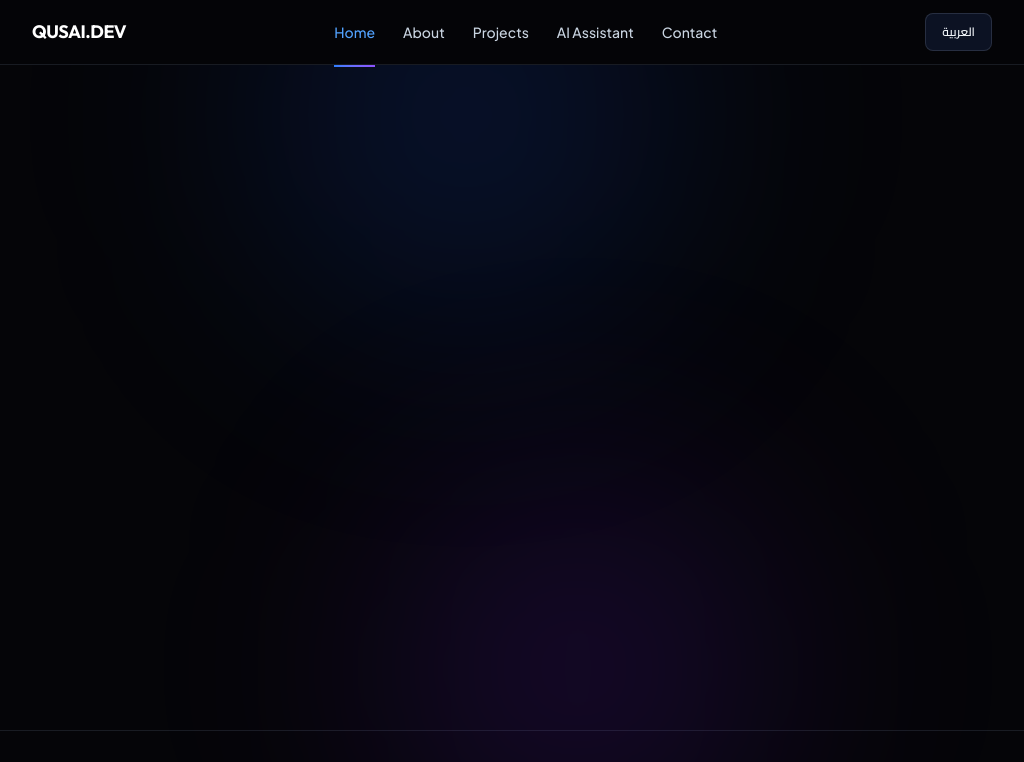
Portfolio Navigation, Bilingual Switching, and RTL/LTR Layout › switches between English (LTR) and Arabic (RTL) cleanly
Click the button "العربية" at (959, 32), box [925,13,992,51]
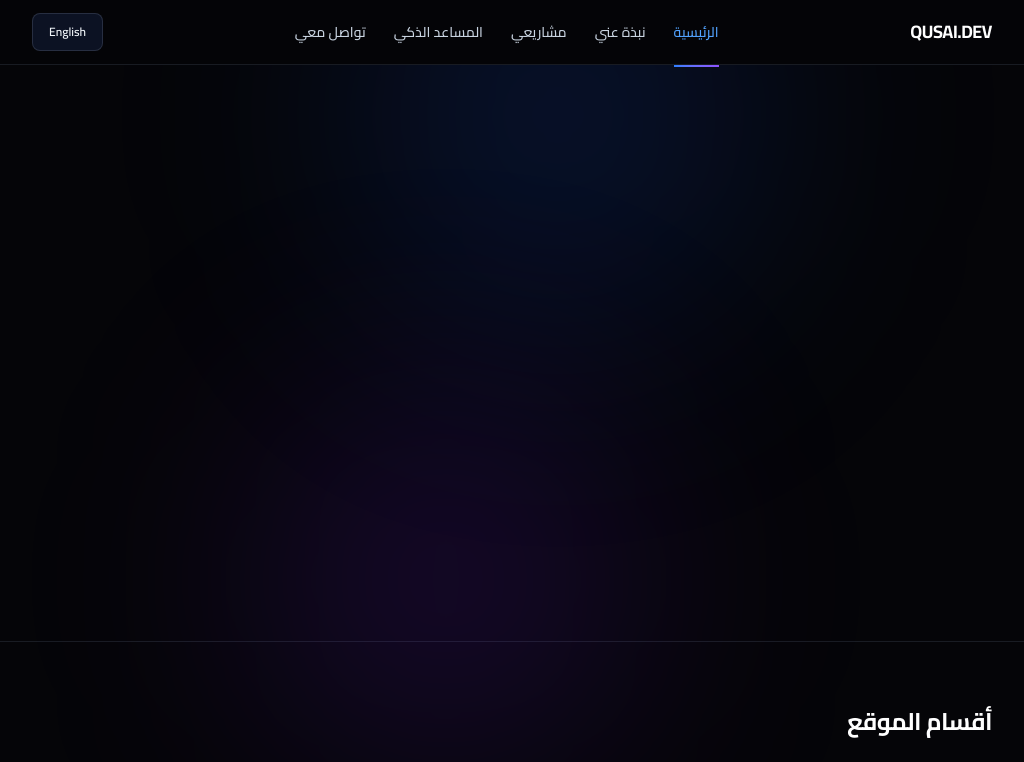
Click the button "English" at (68, 32), box [32,13,103,51]
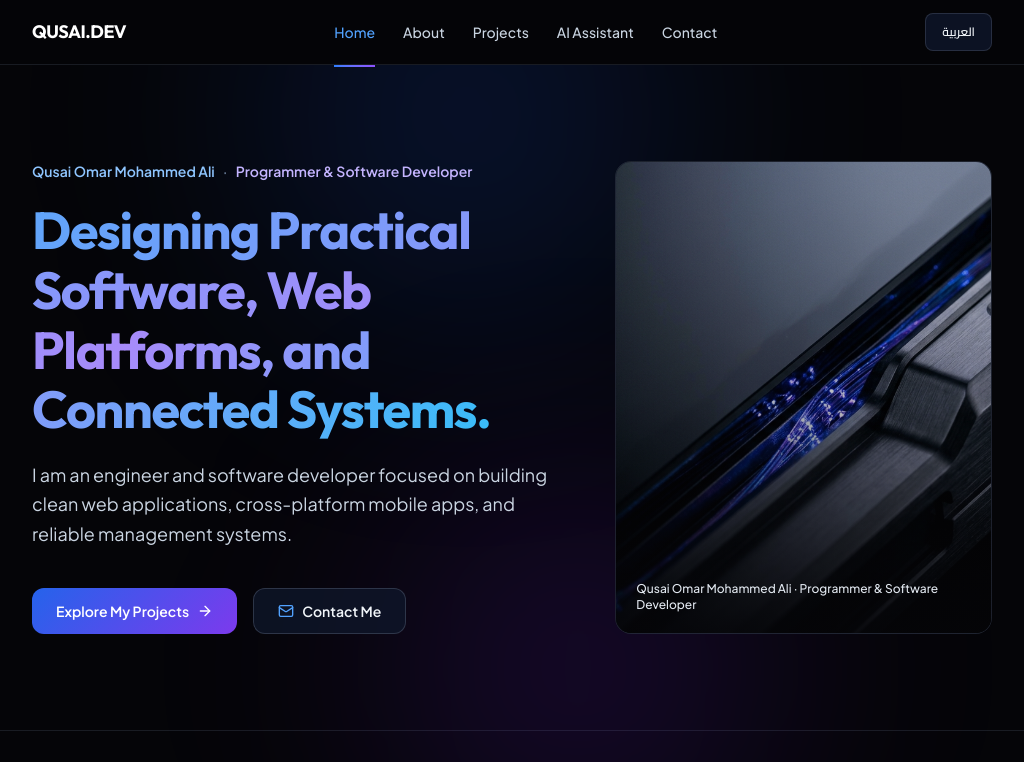
Expected: the heading "Designing Practical Software" is shown, [32,197,491,442]
